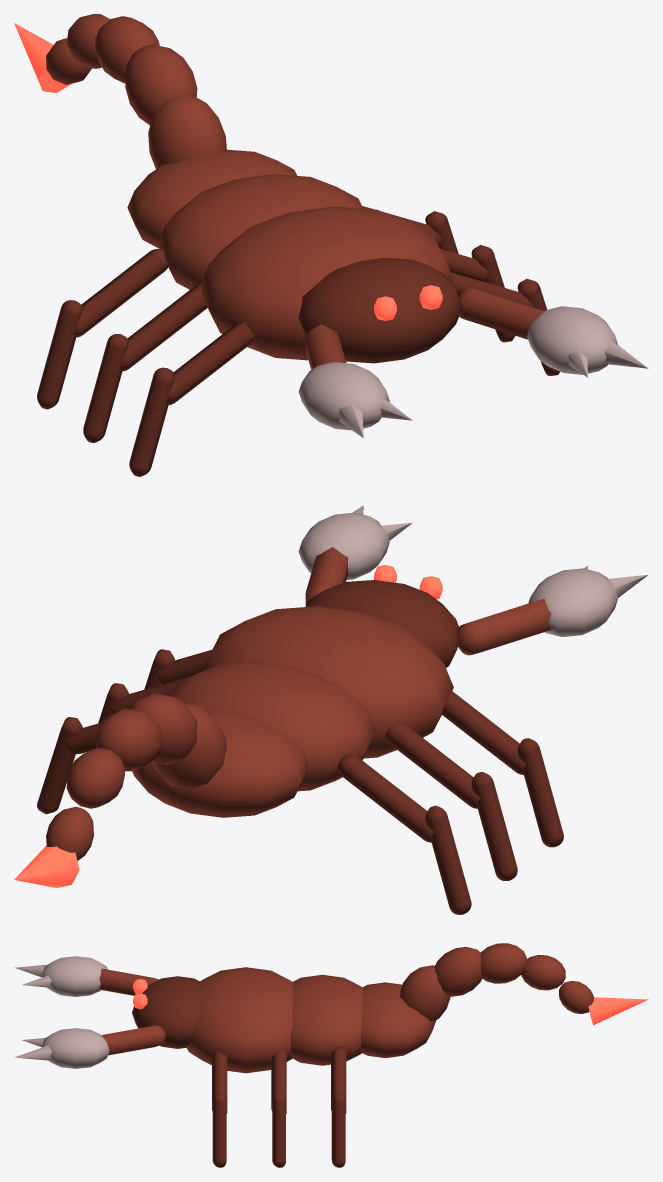
File: mob_scorpion.glb
The picture shows the model from 3 angles, top to bottom: view 1: azimuth 30°, elevation 25°; view 2: azimuth 150°, elevation 25°; view 3: azimuth 270°, elevation 25°; orthographic projection. The views are drawn at different scales.
Parts seen in each view (by area): view 1: mob_body__m17_ow100_, mob_body_dark55__m0_ow100_, mob_body_dark55__m5_ow100_, mob_body_light35__m10_ow100_, mob_body_light35__m8_ow100_, mob_body_dark55__m3_ow100_, mob_body_dark55__m1_ow100_, mob_body__m11_ow100_, mob_body__m12_ow100_, mob_body__m9_ow100_, mob_body__m13_ow100_, mob_body_dark55__m4_ow100_ (+7 smaller); view 2: mob_body__m17_ow100_, mob_body_dark55__m0_ow100_, mob_body_dark55__m5_ow100_, mob_body_dark55__m3_ow100_, mob_body_dark55__m1_ow100_, mob_body_light35__m8_ow100_, mob_body_light35__m10_ow100_, mob_body__m7_ow100_, mob_body__m11_ow100_, mob_body__m13_ow100_, mob_body__m14_ow100_, mob_body__m12_ow100_ (+7 smaller); view 3: mob_body__m17_ow100_, mob_body_dark55__m0_ow100_, mob_body_light35__m10_ow100_, mob_body_light35__m8_ow100_, mob_body__m12_ow100_, mob_body_dark55__m6_ow100_, mob_body__m11_ow100_, mob_body_dark55__m2_ow100_, mob_body_dark55__m4_ow100_, mob_body__m13_ow100_, mob_body__m9_ow100_, mob_body__m14_ow100_ (+4 smaller).
Boxes of the visible parts, box(x1,y1,x2,y2) form: mob_body__m17_ow100_: box(127, 149, 453, 360); mob_body_dark55__m0_ow100_: box(298, 258, 460, 363); mob_body_dark55__m5_ow100_: box(37, 249, 168, 409); mob_body_light35__m10_ow100_: box(527, 306, 648, 377); mob_body_light35__m8_ow100_: box(298, 362, 412, 437); mob_body_dark55__m3_ow100_: box(83, 283, 207, 442); mob_body_dark55__m1_ow100_: box(129, 322, 255, 476); mob_body__m11_ow100_: box(148, 94, 226, 169); mob_body__m12_ow100_: box(125, 44, 197, 125); mob_body__m9_ow100_: box(458, 288, 543, 339); mob_body__m13_ow100_: box(95, 16, 159, 83); mob_body_dark55__m4_ow100_: box(440, 245, 515, 342); mob_body__m17_ow100_: box(132, 606, 453, 817); mob_body_dark55__m0_ow100_: box(306, 580, 458, 667); mob_body_dark55__m5_ow100_: box(337, 754, 471, 914); mob_body_dark55__m3_ow100_: box(384, 722, 517, 880); mob_body_dark55__m1_ow100_: box(441, 690, 563, 847); mob_body_light35__m8_ow100_: box(528, 565, 648, 636); mob_body_light35__m10_ow100_: box(298, 505, 412, 579); mob_body__m7_ow100_: box(457, 598, 551, 655); mob_body__m11_ow100_: box(152, 702, 226, 789); mob_body__m13_ow100_: box(95, 709, 161, 771); mob_body__m14_ow100_: box(66, 748, 125, 808); mob_body__m12_ow100_: box(131, 692, 197, 765); mob_body__m17_ow100_: box(187, 967, 436, 1073); mob_body_dark55__m0_ow100_: box(132, 976, 202, 1048); mob_body_light35__m10_ow100_: box(14, 1028, 109, 1068); mob_body_light35__m8_ow100_: box(14, 956, 107, 996); mob_body__m12_ow100_: box(435, 947, 482, 996); mob_body_dark55__m6_ow100_: box(331, 1047, 346, 1167); mob_body__m11_ow100_: box(400, 965, 450, 1021); mob_body_dark55__m2_ow100_: box(212, 1051, 227, 1167); mob_body_dark55__m4_ow100_: box(271, 1048, 286, 1167); mob_body__m13_ow100_: box(480, 943, 526, 983); mob_body__m9_ow100_: box(101, 1025, 165, 1055); mob_body__m14_ow100_: box(521, 955, 565, 990).
Size of the model in its own units: 1.89 by 1.02 by 3.73.
